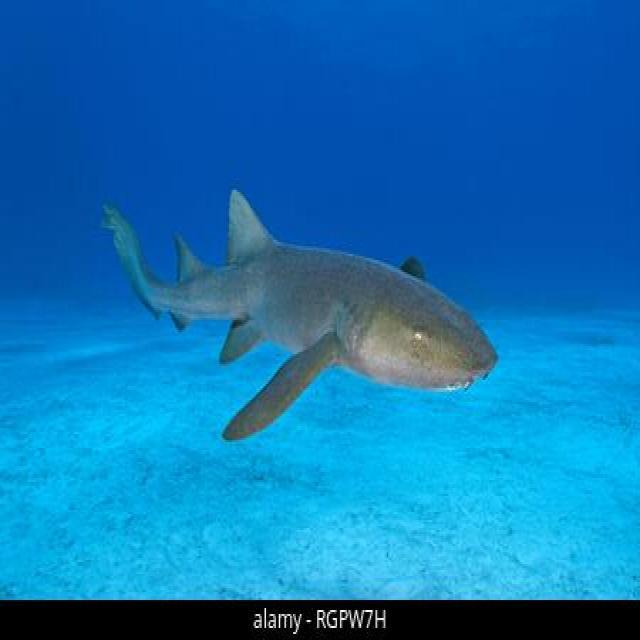Shark: (74, 132, 501, 468)
